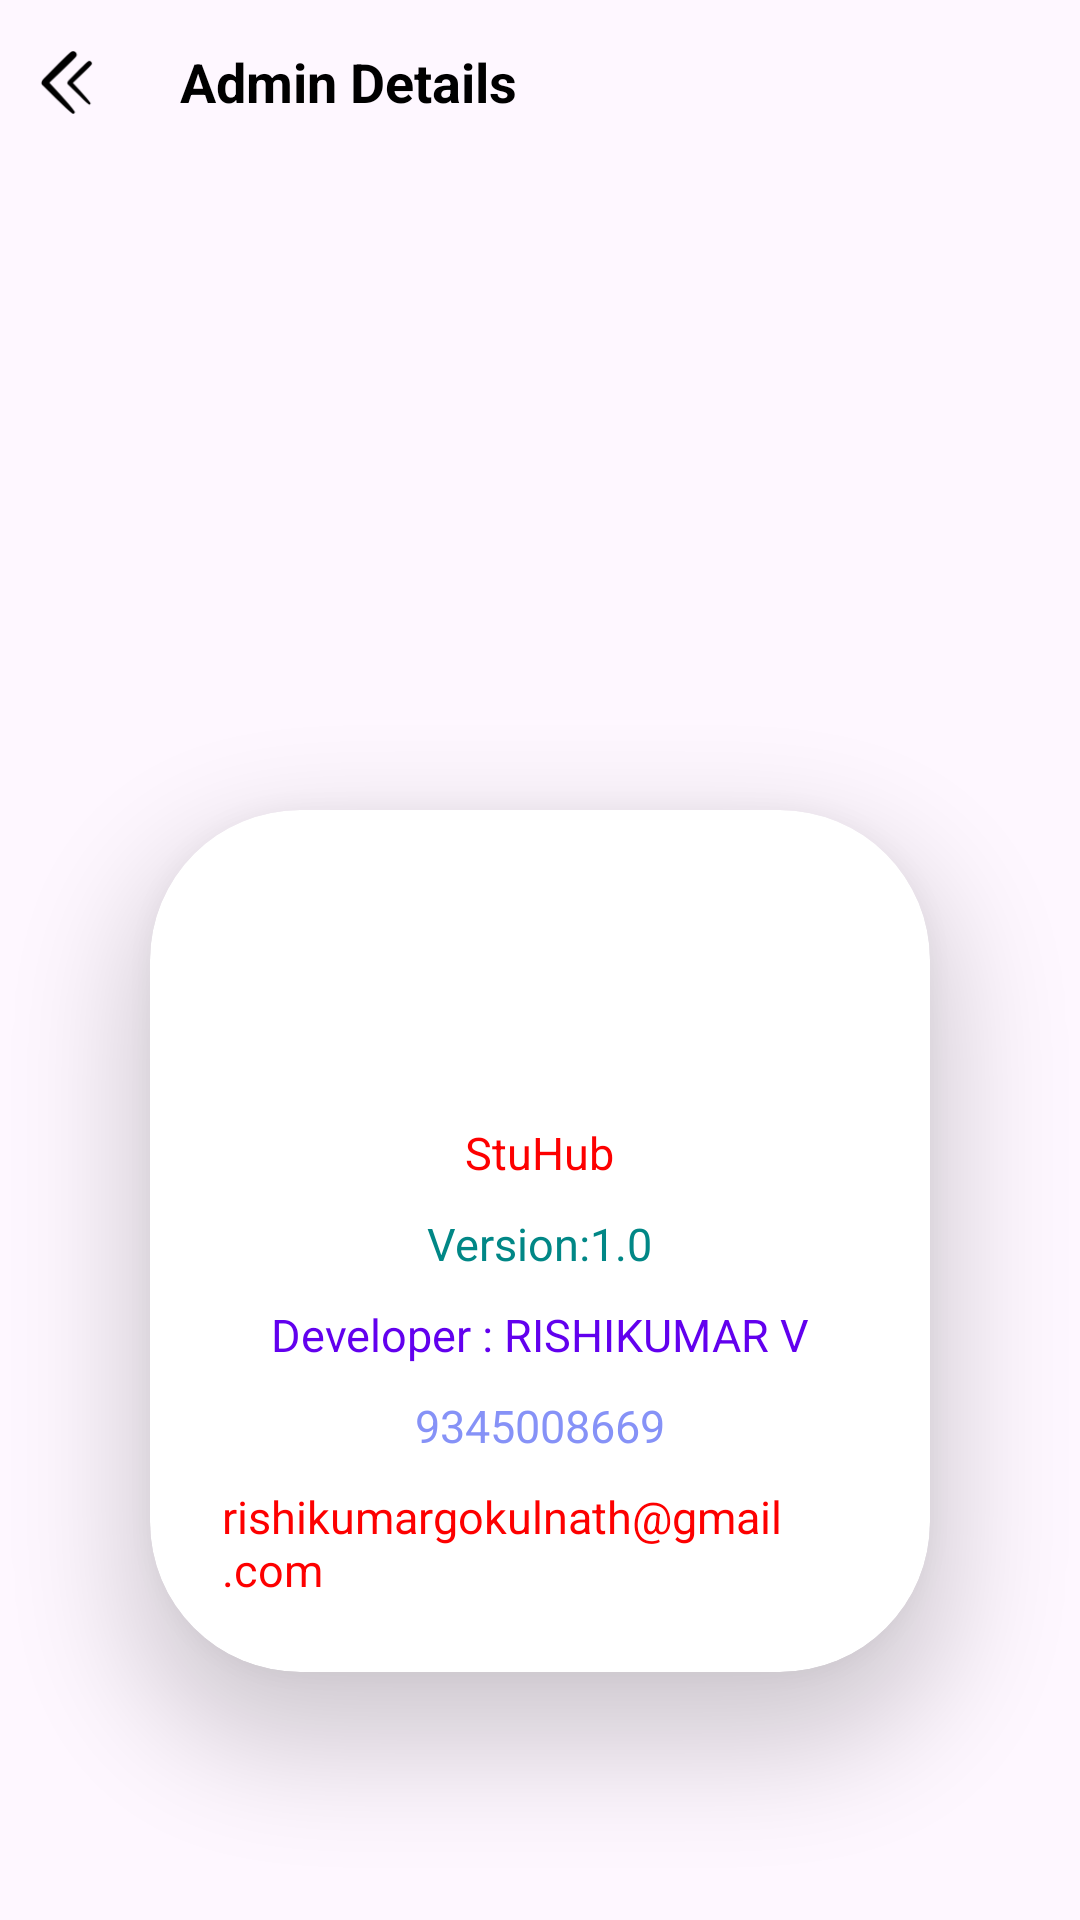

Icons on this 1080 × 1920 Android screen, each with the point to tap as point (x, y):
back: point (66, 82)
